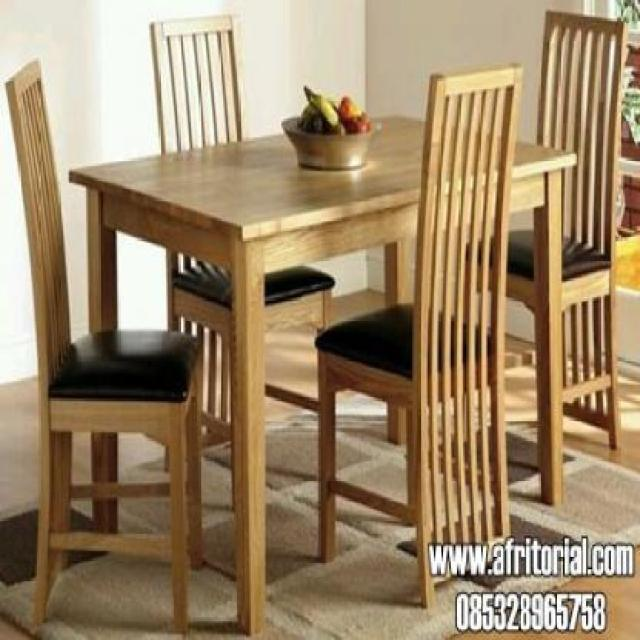tables: (66, 112, 577, 637)
